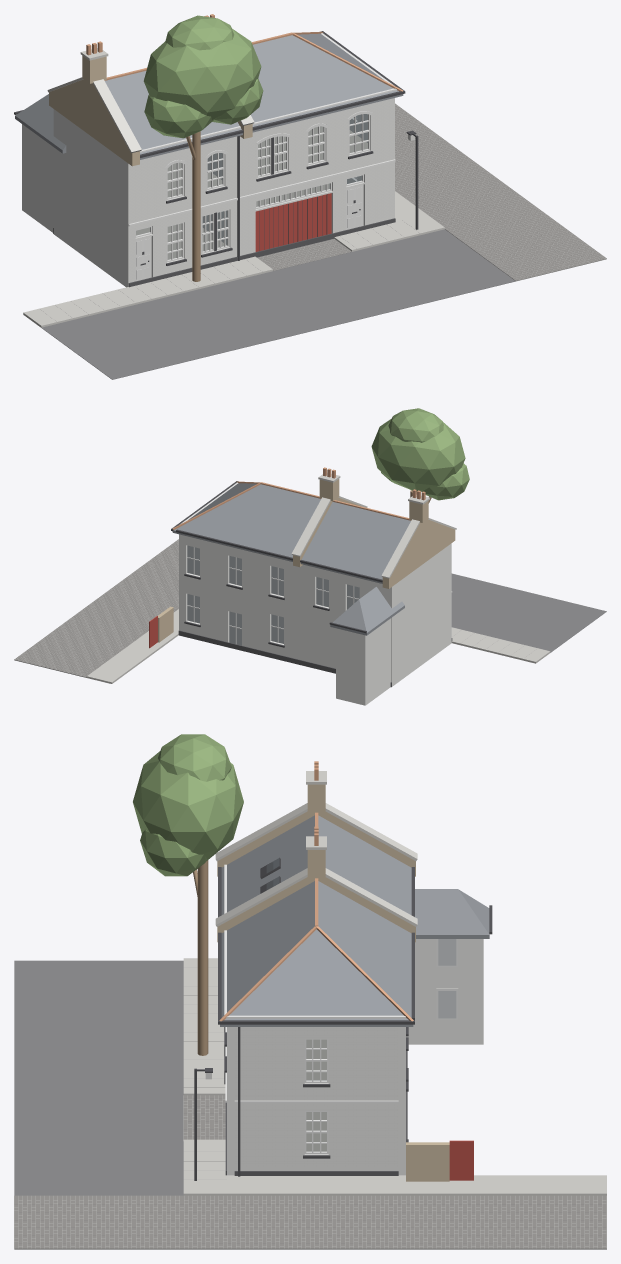
The model's file is clay-mews-coach-house-clay-v004.glb.
3 views of the same model, one above another, from view 1: azimuth 30°, elevation 25°; view 2: azimuth 150°, elevation 25°; view 3: azimuth 270°, elevation 25° (orthographic). The views are drawn at different scales.
Visible parts, largest first — view 1: CLAY_WALL, CLAY_ASPHALT, CLAY_SETTS, CLAY_ROOF, CLAY_PLANTING, CLAY_SETTJOINT, CLAY_PAVING, CLAY_TRIM, CLAY_JOINT, CLAY_BRICK, CLAY_HARDWARE, CLAY_GLASS (+8 smaller); view 2: CLAY_WALL, CLAY_ROOF, CLAY_SETTS, CLAY_ASPHALT, CLAY_PLANTING, CLAY_SETTJOINT, CLAY_BRICK, CLAY_PAVING, CLAY_TRIM, CLAY_GLASS, CLAY_STONE, CLAY_HARDWARE (+3 smaller); view 3: CLAY_ASPHALT, CLAY_SETTS, CLAY_ROOF, CLAY_WALL, CLAY_PAVING, CLAY_SETTJOINT, CLAY_PLANTING, CLAY_BRICK, CLAY_JOINT, CLAY_STONE, CLAY_HARDWARE, CLAY_TRIM (+7 smaller).
Boxes of the visible parts, x1,y1,x2,y2 form: CLAY_WALL: (22,98,394,287); CLAY_ASPHALT: (41,229,515,379); CLAY_SETTS: (257,103,606,281); CLAY_ROOF: (15,33,403,159); CLAY_PLANTING: (143,15,263,138); CLAY_SETTJOINT: (23,105,605,325); CLAY_PAVING: (23,191,444,327); CLAY_TRIM: (128,111,395,279); CLAY_JOINT: (129,100,394,279); CLAY_BRICK: (49,55,252,166); CLAY_HARDWARE: (14,31,418,265); CLAY_GLASS: (136,114,367,259); CLAY_WALL: (179,534,451,705); CLAY_ROOF: (172,483,410,635); CLAY_SETTS: (14,539,178,677); CLAY_ASPHALT: (451,573,606,652); CLAY_PLANTING: (371,408,469,500); CLAY_SETTJOINT: (15,540,549,677); CLAY_BRICK: (158,479,455,642); CLAY_PAVING: (86,609,550,683); CLAY_TRIM: (187,546,452,645); CLAY_GLASS: (187,546,359,645); CLAY_STONE: (291,473,456,578); CLAY_HARDWARE: (171,481,382,647); CLAY_ASPHALT: (14,960,183,1195); CLAY_SETTS: (14,1095,606,1249); CLAY_ROOF: (220,815,489,1026); CLAY_WALL: (227,939,483,1175); CLAY_PAVING: (183,958,606,1195); CLAY_SETTJOINT: (14,958,606,1248); CLAY_PLANTING: (133,734,243,876); CLAY_BRICK: (217,784,449,1181); CLAY_JOINT: (235,1027,397,1166); CLAY_STONE: (215,771,417,926); CLAY_HARDWARE: (194,857,492,1180); CLAY_TRIM: (225,939,458,1154).
Size of the model in its own units: 28.21 by 14.5 by 24.51.
